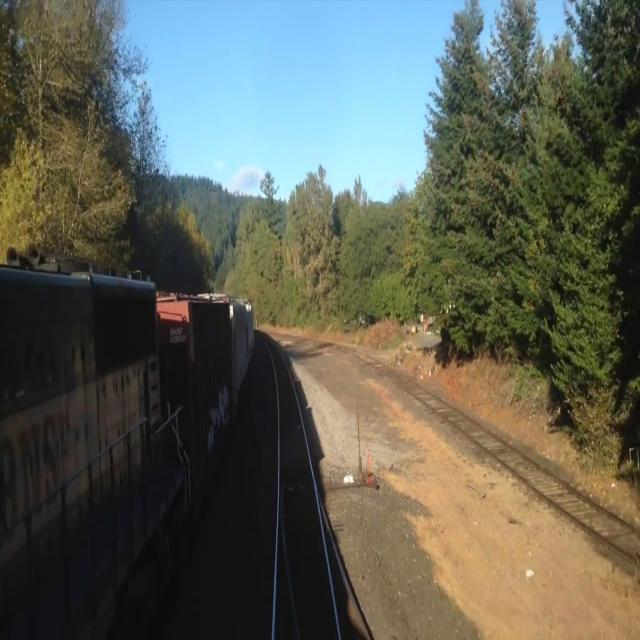rail-track: (375, 363, 640, 556), (268, 343, 335, 639), (327, 533, 365, 639), (276, 537, 295, 639)
